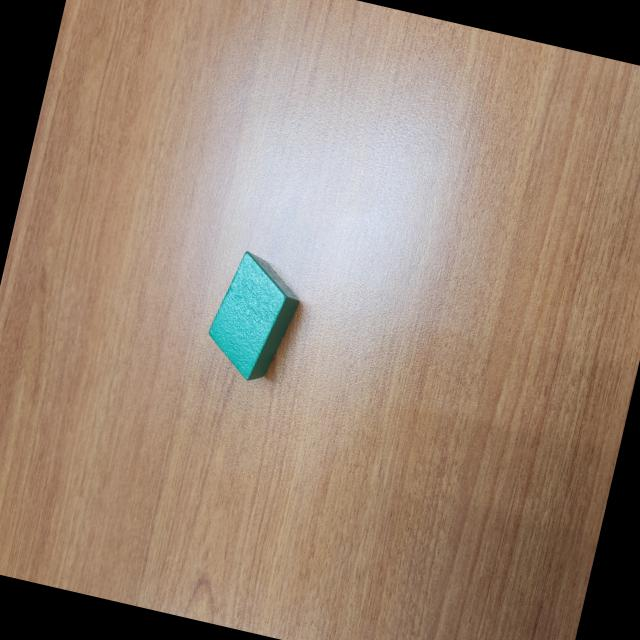green: (198, 246, 310, 389)
